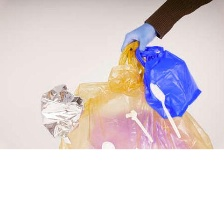plastic_bag: (41, 33, 215, 150), (132, 41, 203, 121)
